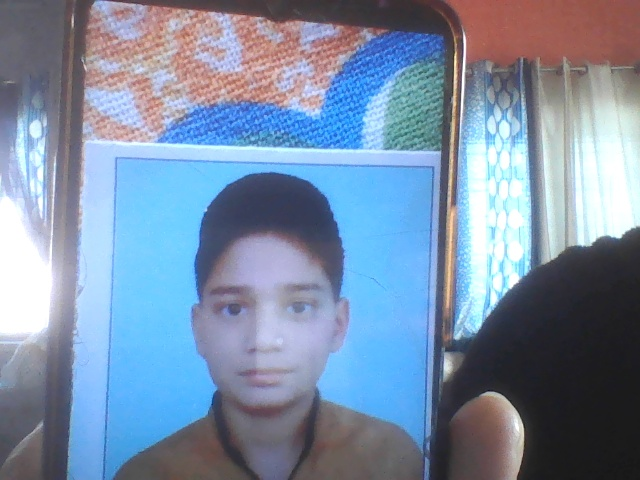fake: (173, 163, 371, 443)
